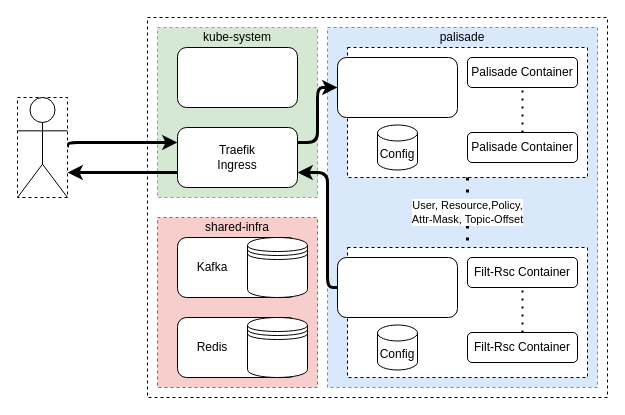
The diagram is 625 pixels wide and 415 high, and some of its shapes have lost their labels. Here are the shapes that lost their labels. From the top down, the box of each, then its label:
(176, 46, 298, 108): Metrics Server
(336, 56, 458, 118): Palisade Service*
(336, 256, 458, 318): Filtered-Resource Service*
